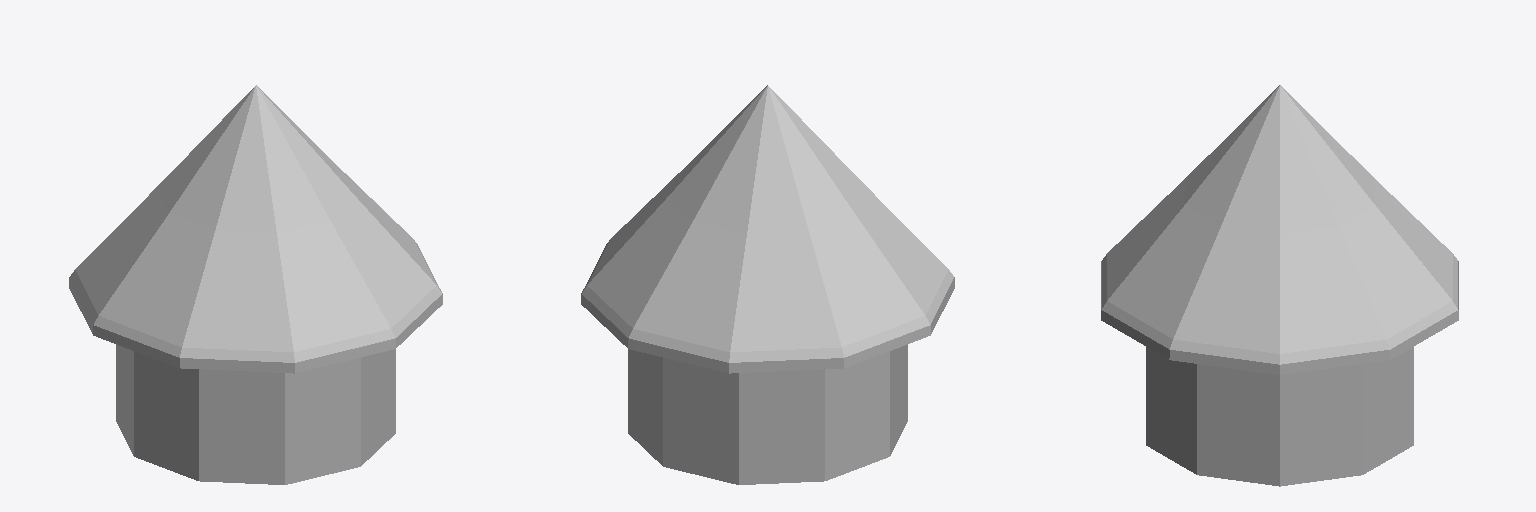
File: Hut03.obj
3 renders of one model, left to right at view 1: azimuth 30°, elevation 25°; view 2: azimuth 150°, elevation 25°; view 3: azimuth 270°, elevation 25°, orthographic.
Parts seen in each view (by area): view 1: Hut03; view 2: Hut03; view 3: Hut03.
Boxes of the visible parts, x1,y1,x2,y2 form: Hut03: [69, 85, 442, 484]; Hut03: [581, 85, 954, 484]; Hut03: [1101, 85, 1458, 486].
Bounding box in the file's own units: 9.81 × 9.84 × 9.33.